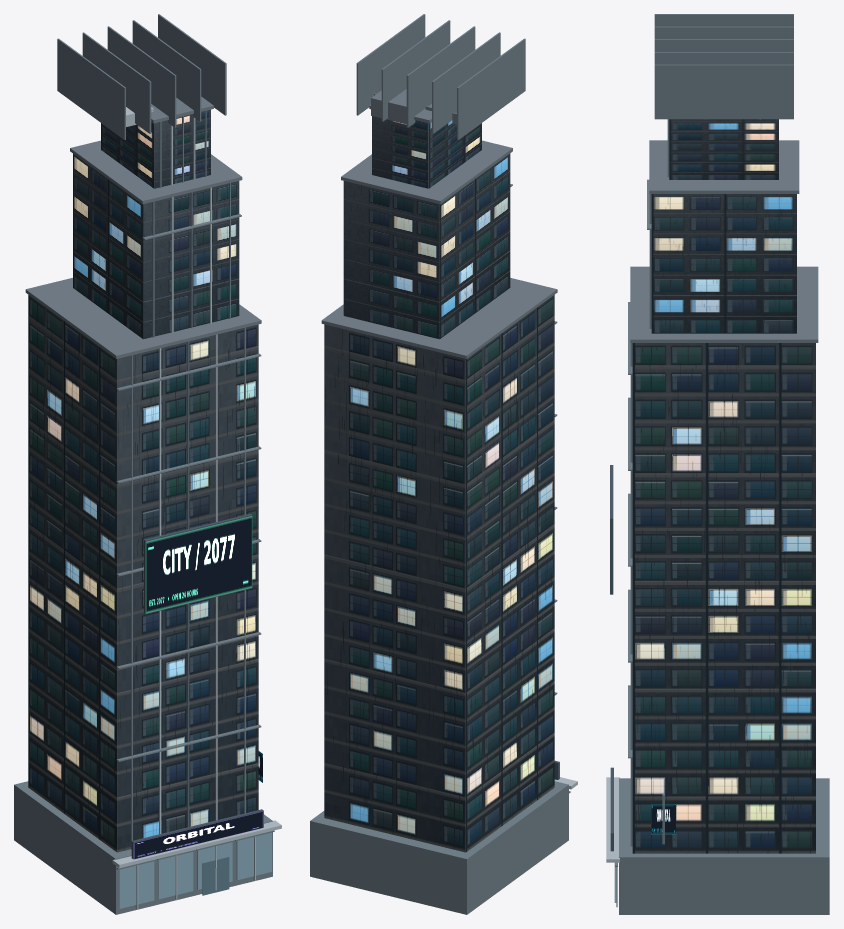
The model's file is building_08.glb.
3 views of the same model, side by side, from view 1: azimuth 30°, elevation 25°; view 2: azimuth 150°, elevation 25°; view 3: azimuth 270°, elevation 25° (orthographic). The views are drawn at different scales.
Visible parts, largest first — view 1: facade_0, facade_sideb_3, frame, facade_4, facade_sideb_7, roof, ad_14, alum, glass, facade_8, sign_12, facade_sideb_11 (+3 smaller); view 2: facade_back_1, facade_sideb_3, frame, facade_back_5, roof, facade_sideb_7, facade_back_9, facade_sideb_11, concrete; view 3: facade_side_2, frame, facade_side_6, roof, facade_side_10, alum, dark, side_sign_13.
Part boxes in pixels (bbox=[...]): facade_0: bbox=[117, 324, 258, 852]; facade_sideb_3: bbox=[28, 295, 116, 851]; frame: bbox=[14, 14, 274, 914]; facade_4: bbox=[143, 181, 239, 338]; facade_sideb_7: bbox=[73, 153, 143, 338]; roof: bbox=[25, 96, 261, 358]; ad_14: bbox=[145, 516, 252, 613]; alum: bbox=[112, 107, 281, 909]; glass: bbox=[119, 832, 271, 908]; facade_8: bbox=[154, 109, 210, 188]; sign_12: bbox=[133, 811, 263, 859]; facade_sideb_11: bbox=[101, 122, 153, 188]; facade_back_1: bbox=[324, 324, 465, 852]; facade_sideb_3: bbox=[466, 295, 554, 852]; frame: bbox=[310, 14, 570, 914]; facade_back_5: bbox=[344, 181, 439, 339]; roof: bbox=[321, 89, 557, 358]; facade_sideb_7: bbox=[440, 153, 510, 338]; facade_back_9: bbox=[372, 116, 428, 188]; facade_sideb_11: bbox=[429, 120, 481, 188]; concrete: bbox=[428, 123, 465, 851]; facade_side_2: bbox=[632, 343, 815, 853]; frame: bbox=[615, 14, 829, 914]; facade_side_6: bbox=[651, 194, 796, 333]; roof: bbox=[630, 140, 818, 342]; facade_side_10: bbox=[669, 119, 778, 179]; alum: bbox=[606, 777, 619, 902]; dark: bbox=[610, 465, 613, 851]; side_sign_13: bbox=[651, 804, 675, 834].
Size of the model in its own units: 23.75 by 110 by 26.7.
24 materials, 15 textured.
